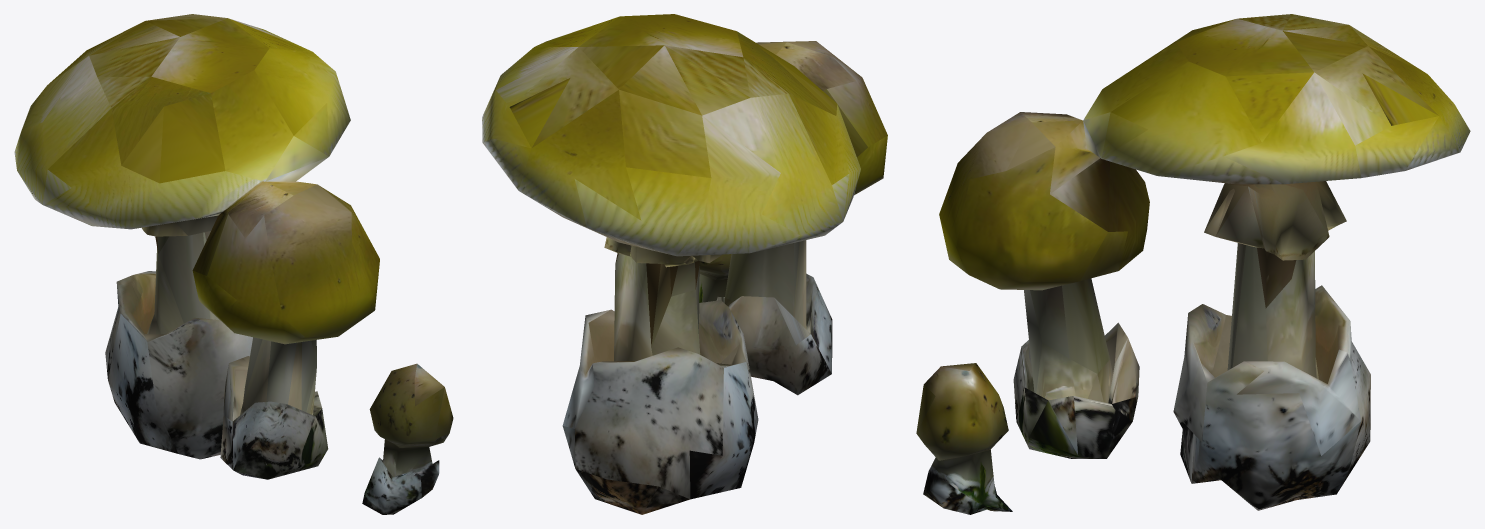
Rendered from mushroom3.fbx.
3 renders of one model, left to right at view 1: azimuth 30°, elevation 25°; view 2: azimuth 150°, elevation 25°; view 3: azimuth 270°, elevation 25°, orthographic. The views are drawn at different scales.
Visible parts, largest first — view 1: meshes[0]; view 2: meshes[0]; view 3: meshes[0].
Part boxes in pixels (<box>): meshes[0]: <box>14,14,453,514</box>; meshes[0]: <box>482,14,887,514</box>; meshes[0]: <box>916,14,1470,514</box>.
Bounding box in the file's own units: 68.36 × 90.26 × 100.
1 material, 1 textured.
